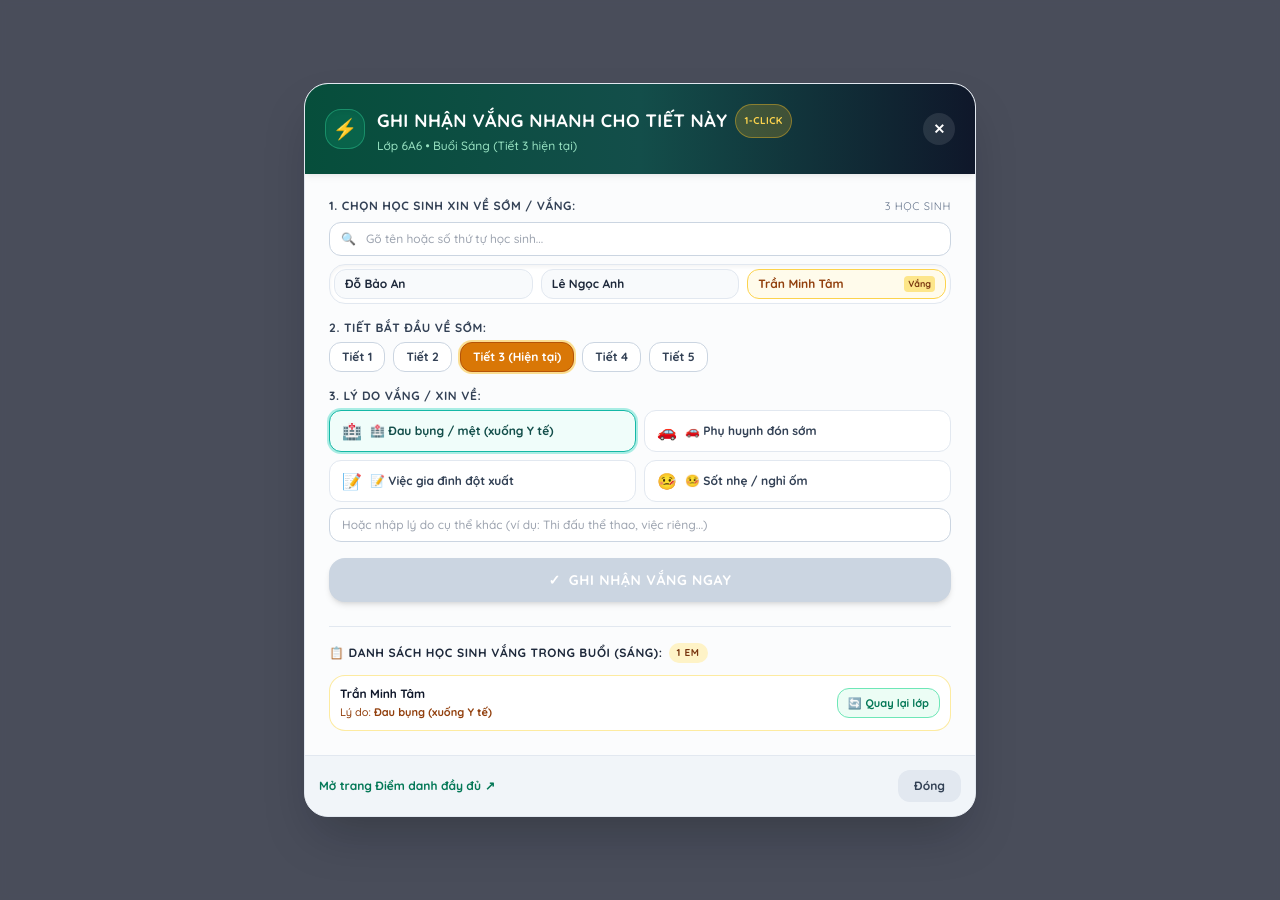
QuickAbsenceModal Component Tests › gọi quickRecordAbsence khi chọn học sinh và nhấn xác nhận ghi nhận
Expected: the text "Đỗ Bảo An" is shown, 345,276 -> 406,291
# Chọn học sinh
Click the button "Đỗ Bảo An" at (433, 284), box 334,269 -> 533,299
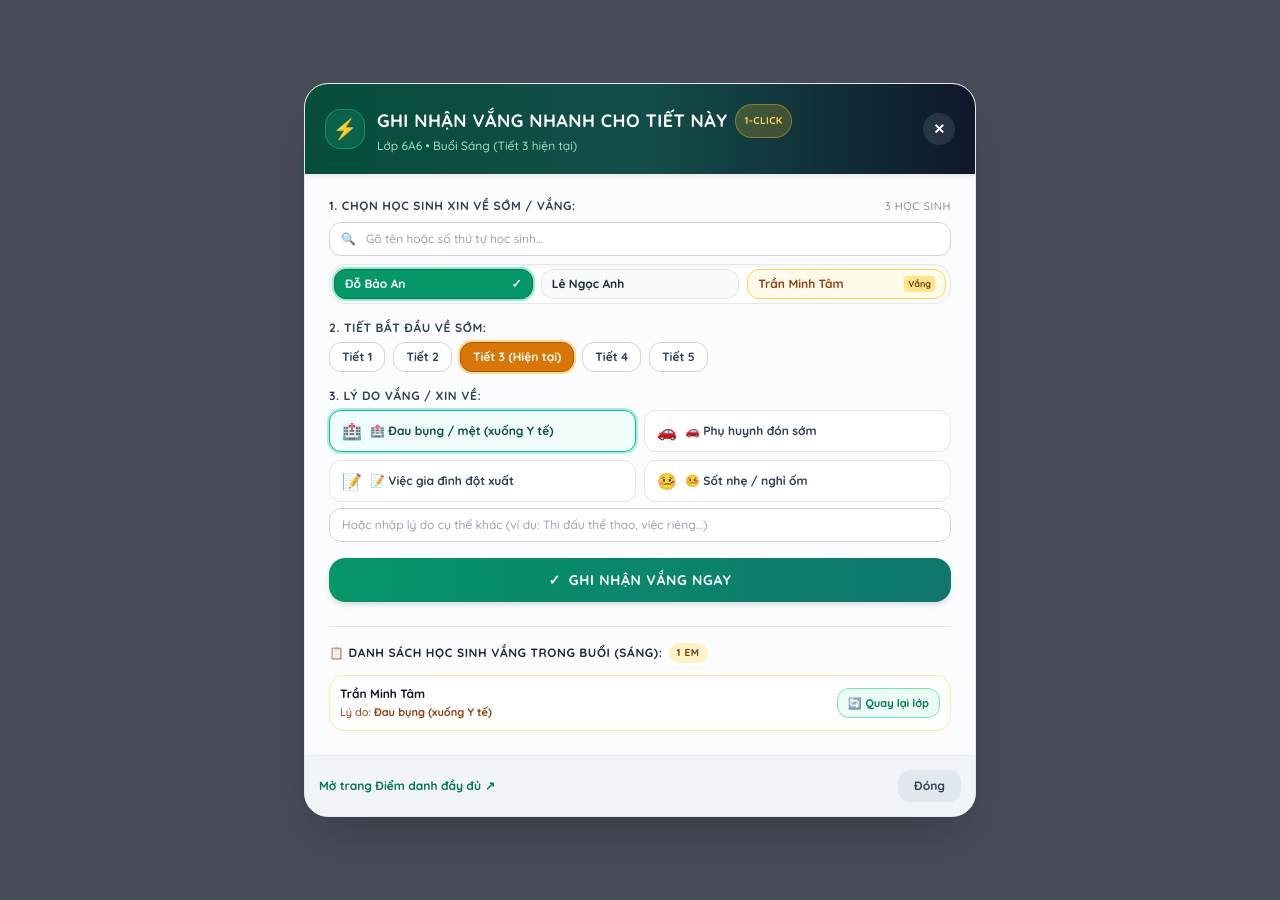
# Nhấn nút Ghi Nhận Vắng Ngay
Click the button "✓ Ghi Nhận Vắng Ngay" at (640, 580), box 329,558 -> 951,602
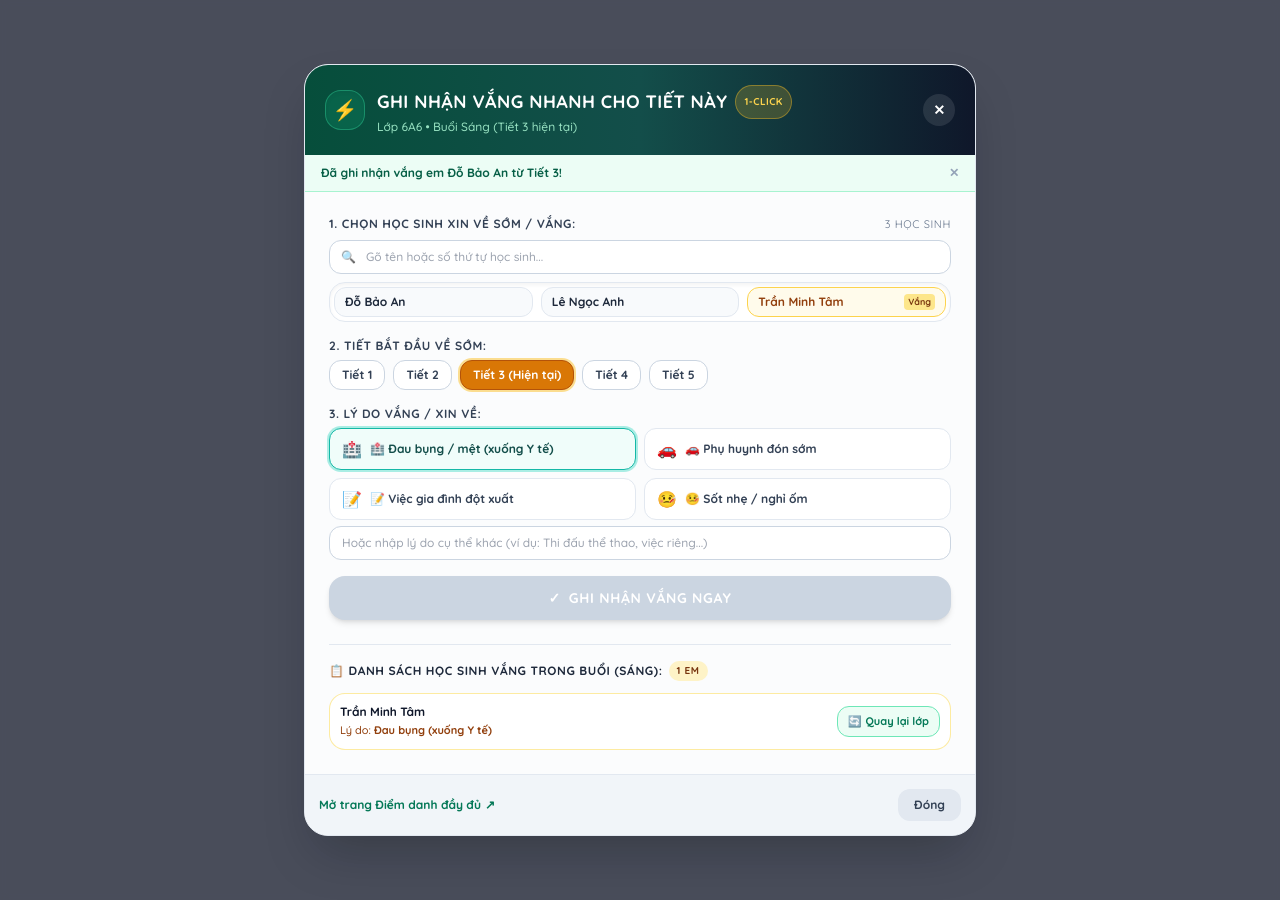
Result: the text "Đã ghi nhận vắng em Đỗ Bảo An từ Tiết 3!" is shown at 321,165 -> 562,181
